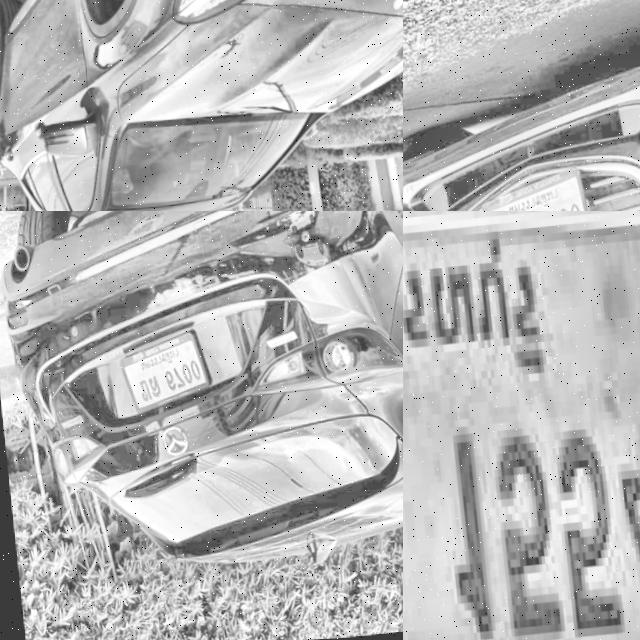license-plate: (403, 211, 640, 640), (112, 323, 211, 424), (473, 161, 594, 211)
